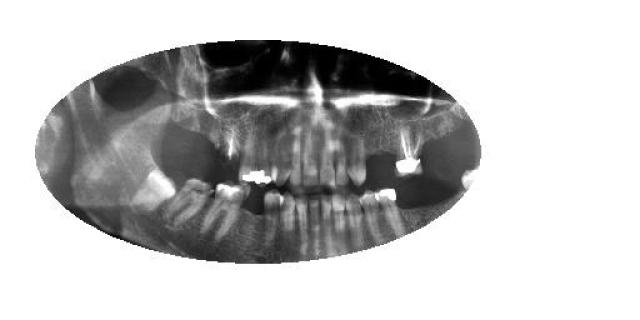Fillings: (200, 180, 251, 241), (375, 188, 406, 238), (239, 132, 259, 186), (258, 129, 272, 189)
Implant: (395, 118, 425, 178)
